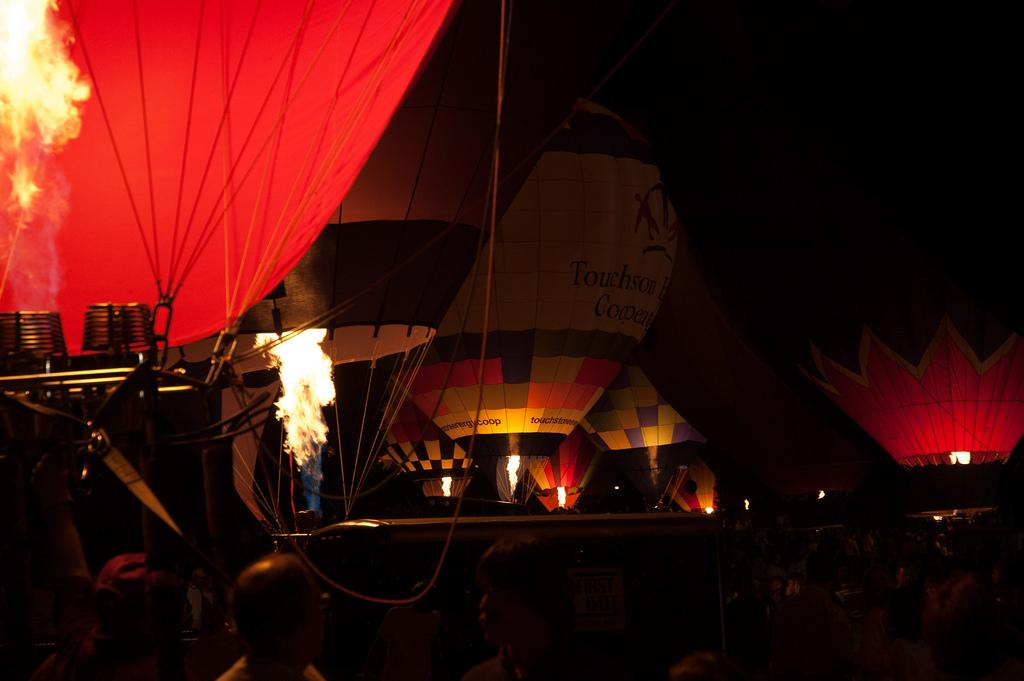fire: (5, 5, 78, 142), (278, 342, 335, 483)
